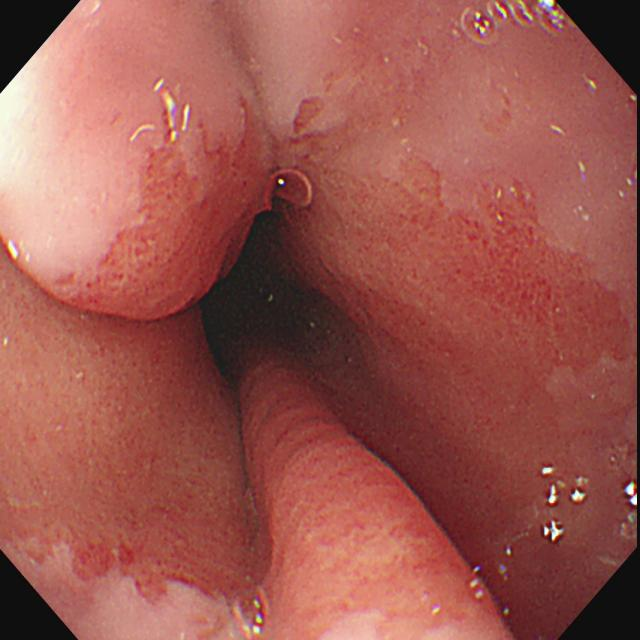D: (454, 195, 577, 318), (65, 539, 148, 593)
I: (81, 106, 505, 573)
T: (460, 2, 573, 47), (266, 163, 314, 218), (230, 582, 271, 640)
U: (541, 465, 590, 545), (153, 78, 193, 146), (5, 237, 32, 268), (624, 481, 639, 510)
